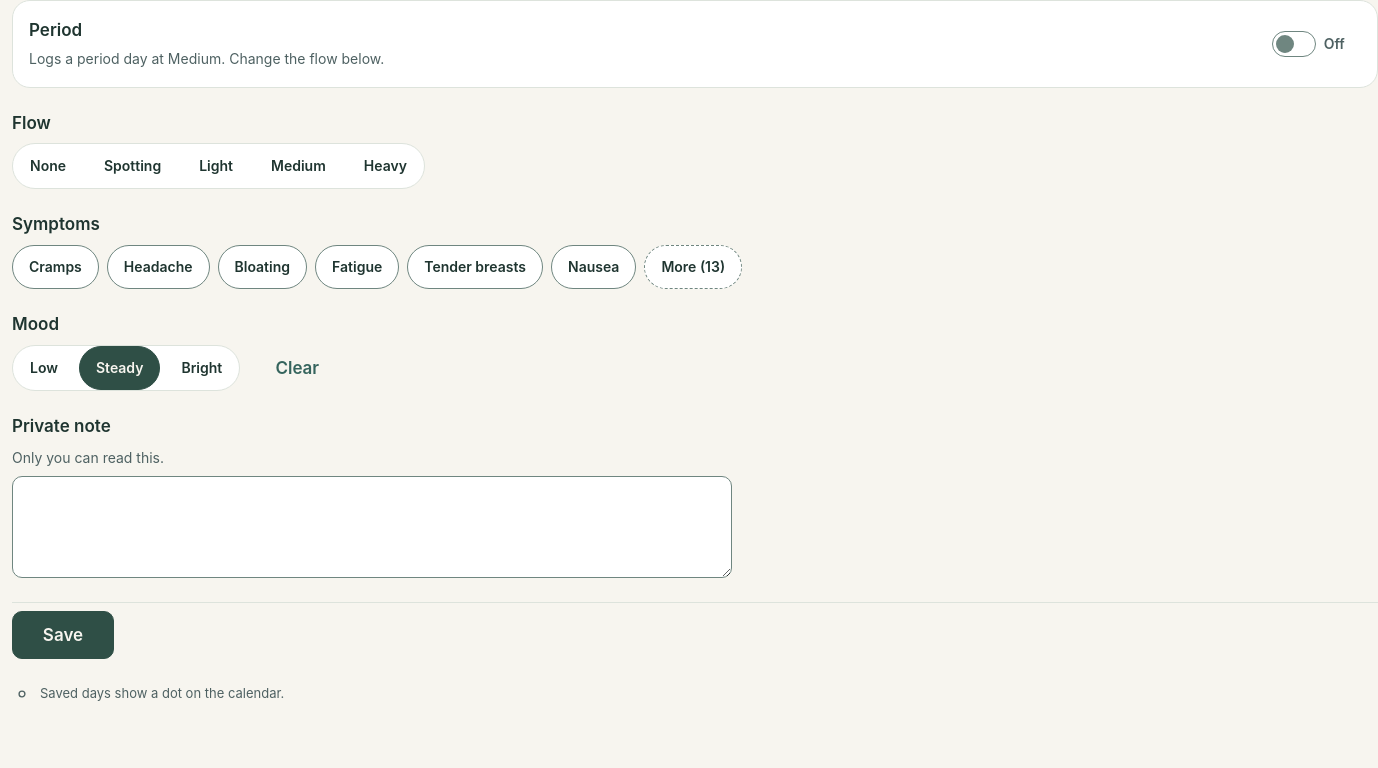
Test: DayLogForm › offers Cancel inline only while the draft differs, and puts the draft back
The image size is (1378, 768).
Check: the button "Cancel" is not shown
Step 1. Click the radio button labelled "Low" → point(44, 368), box [13,346,75,390]
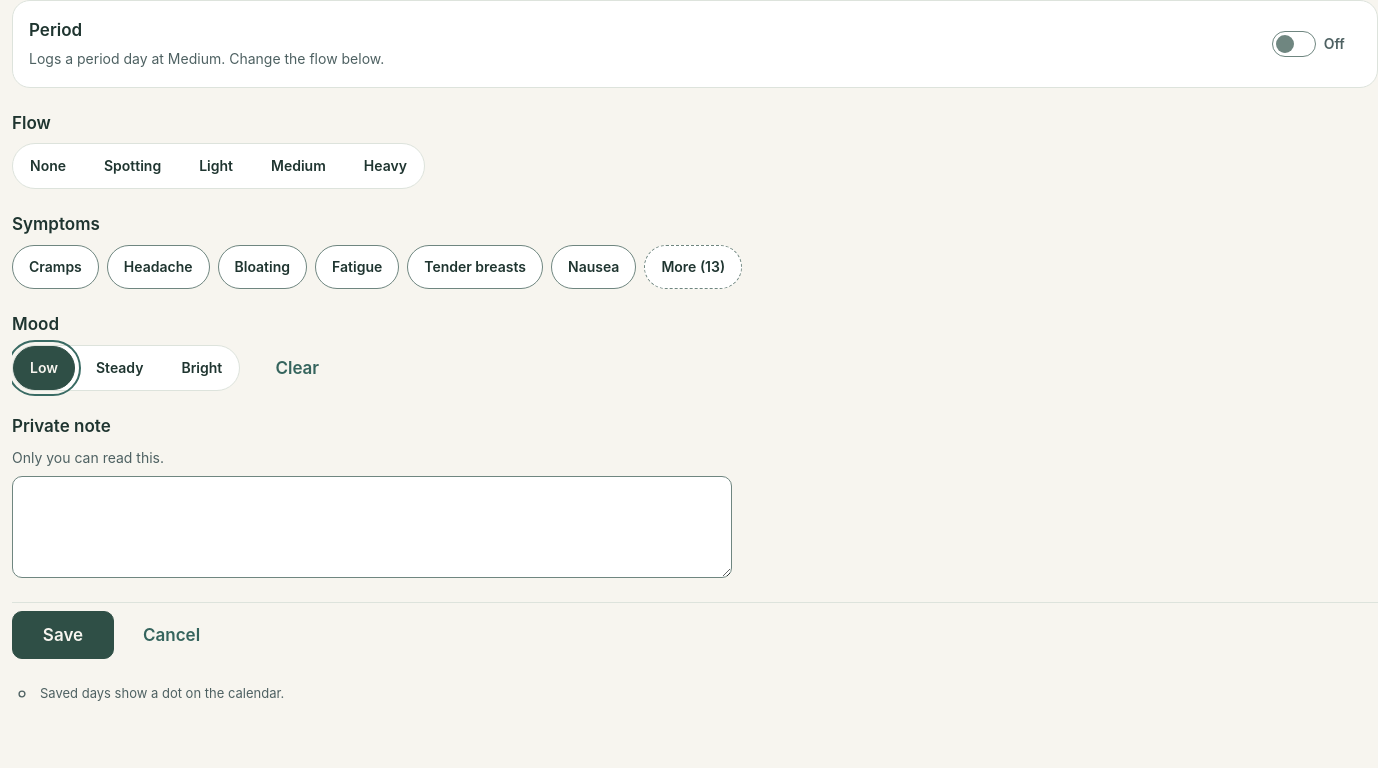
Step 2. Click the button "Cancel" → point(172, 635), box [126,611,217,659]
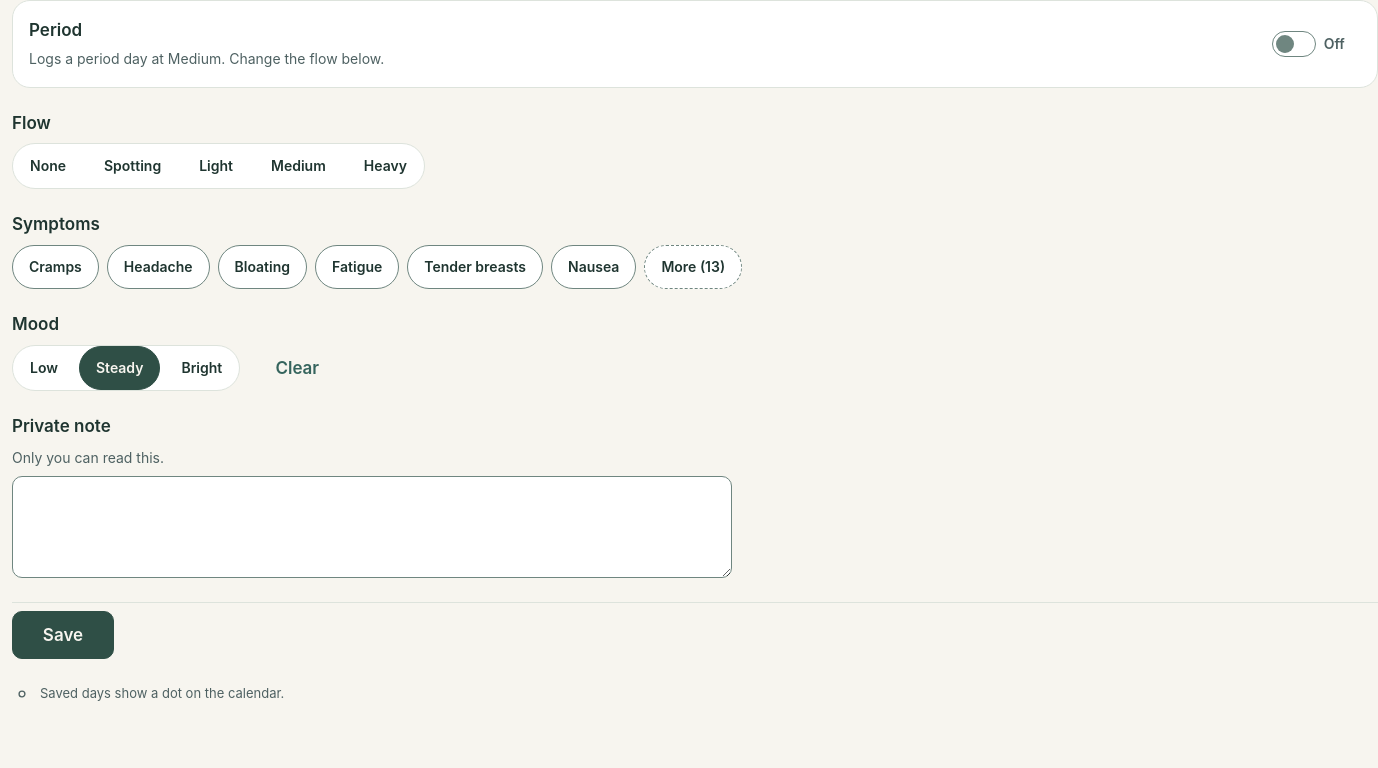
Check: the radio button labelled "Steady" is checked, box [79,346,160,390]
Check: the button "Cancel" is gone
